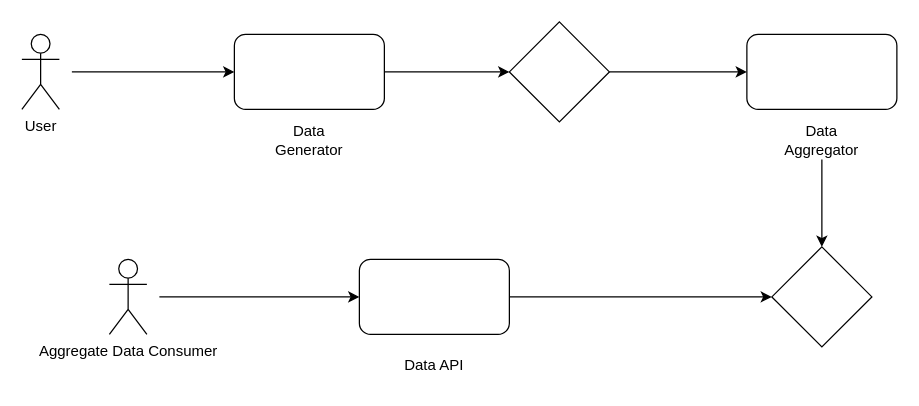
This 919x406 diagram has some shape labels left out. The shapes that lost their labels are listed below. From the top down, each one's box as (x1, y1, x2, y2) in pixels, then its label:
(508, 21, 609, 122): Kafka
(771, 246, 872, 347): PostgreSQL
